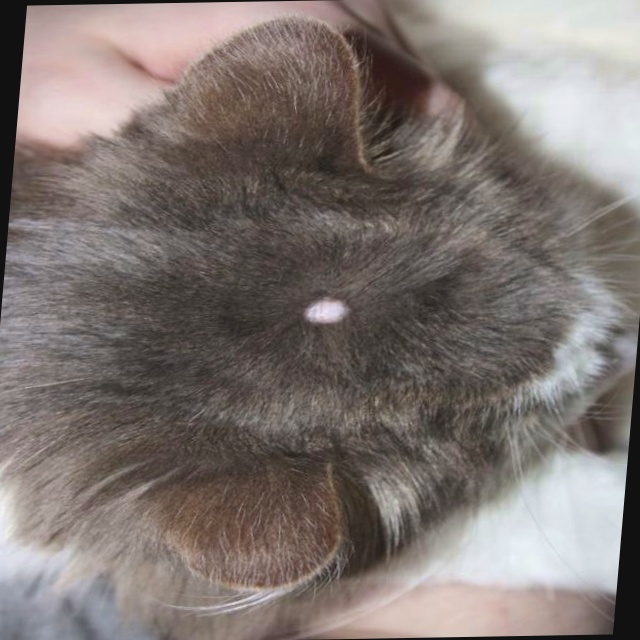lump_and_bump: (298, 297, 352, 322)
